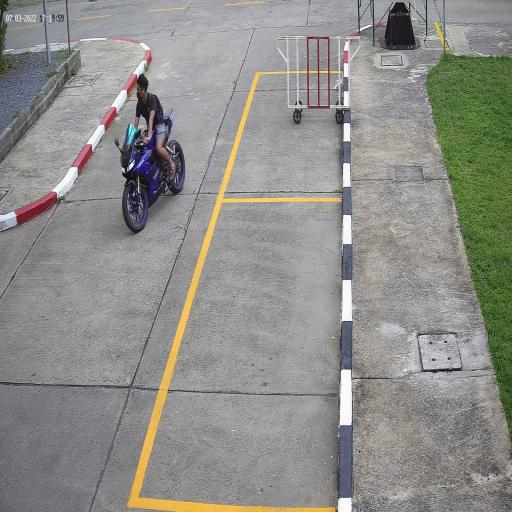motorcycle: (121, 108, 187, 235)
